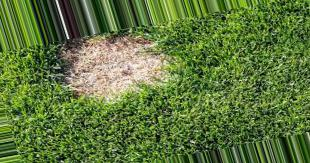patch: (75, 44, 169, 86)
